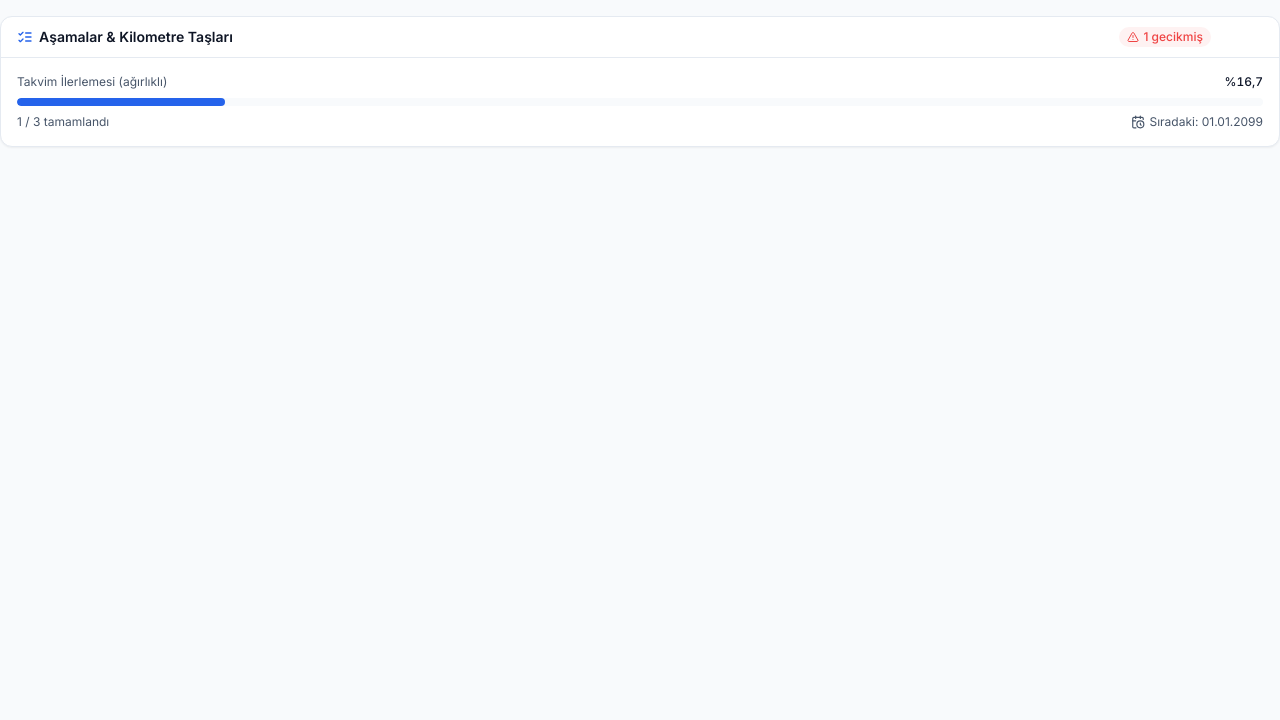
Test: MilestonesCard manager › hides the editor controls for non-managers
Click the text "Aşamalar & Kilometre Taşları" at {"x": 125, "y": 37}, box [17,27,233,47]
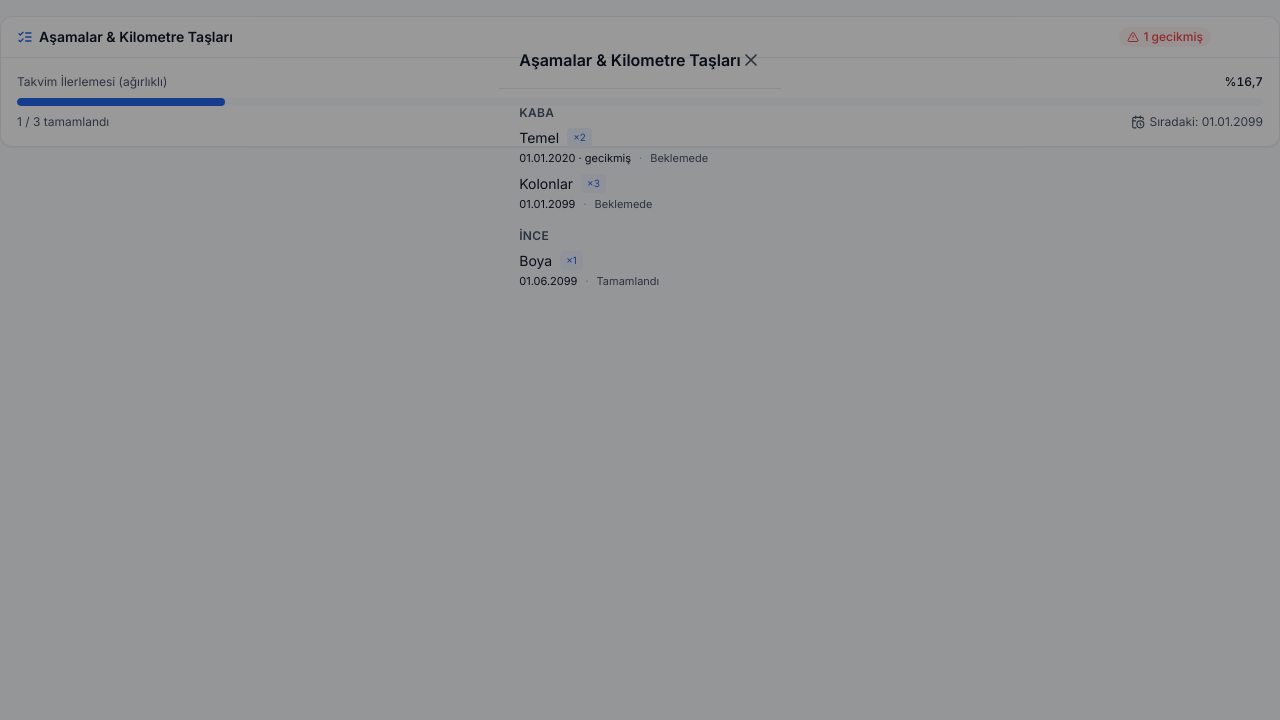
Now the text "Temel" is shown, box [519,127,559,148]
